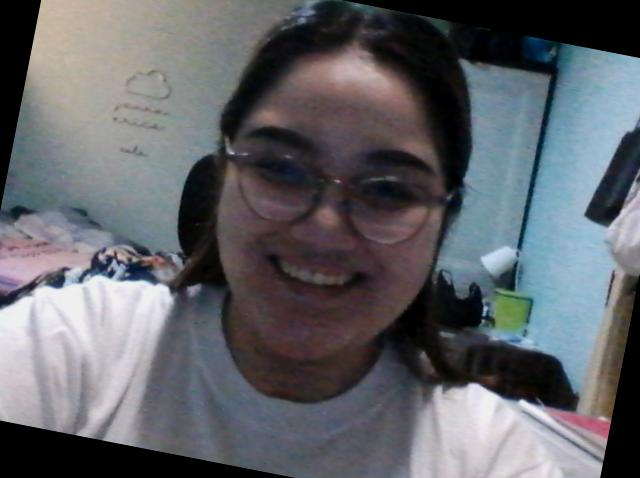senang: (178, 39, 470, 383)
